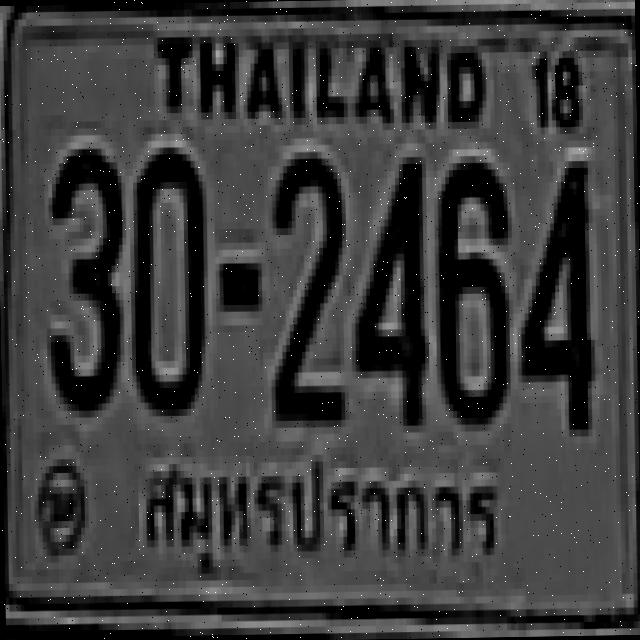0: (127, 140, 205, 410)
2: (269, 144, 343, 420)
3: (43, 141, 121, 404)
4: (514, 150, 592, 427), (348, 146, 426, 416)
6: (433, 155, 507, 418)
SamutPrakan: (128, 433, 520, 608)
